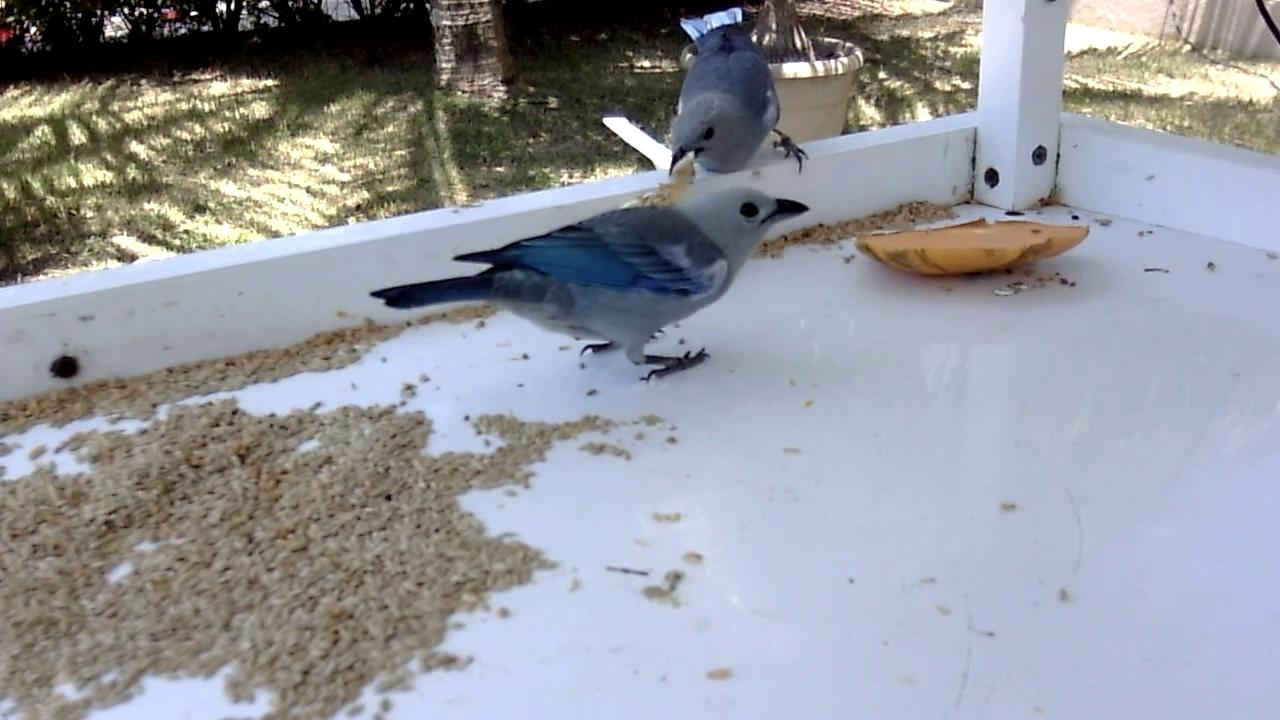sanhaco_da_amazonia: (368, 188, 813, 385), (666, 8, 809, 181)
